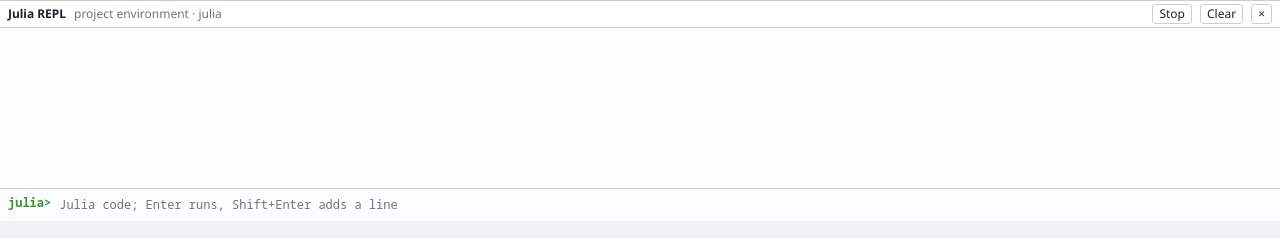
Tab completes a name defined earlier and keeps the focus in the input
This screenshot has width=1280, height=238.
Type "myv" into the text box named "Julia input" at (665, 205), box [57,193,1272,217]
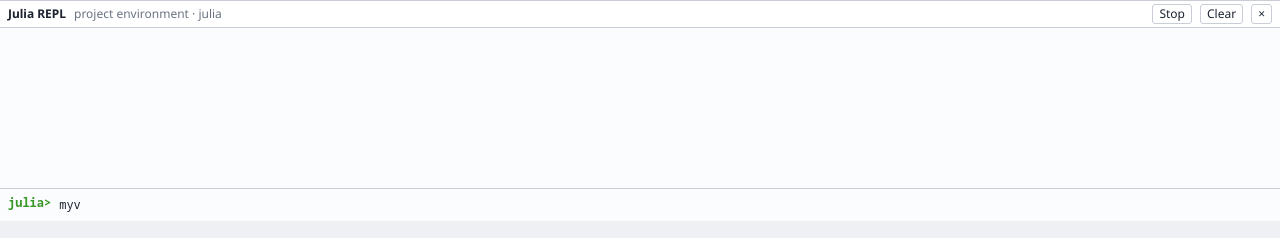
Press Tab in the text box named "Julia input", box [57,193,1272,217]
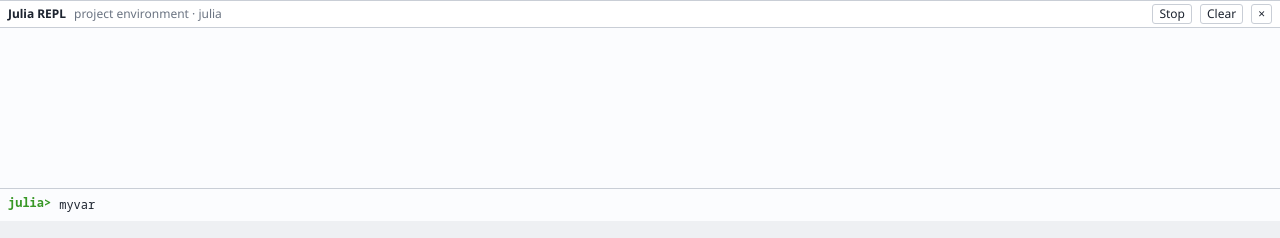
Expected: the text box named "Julia input" holds "myvar", [57,193,1272,217]
